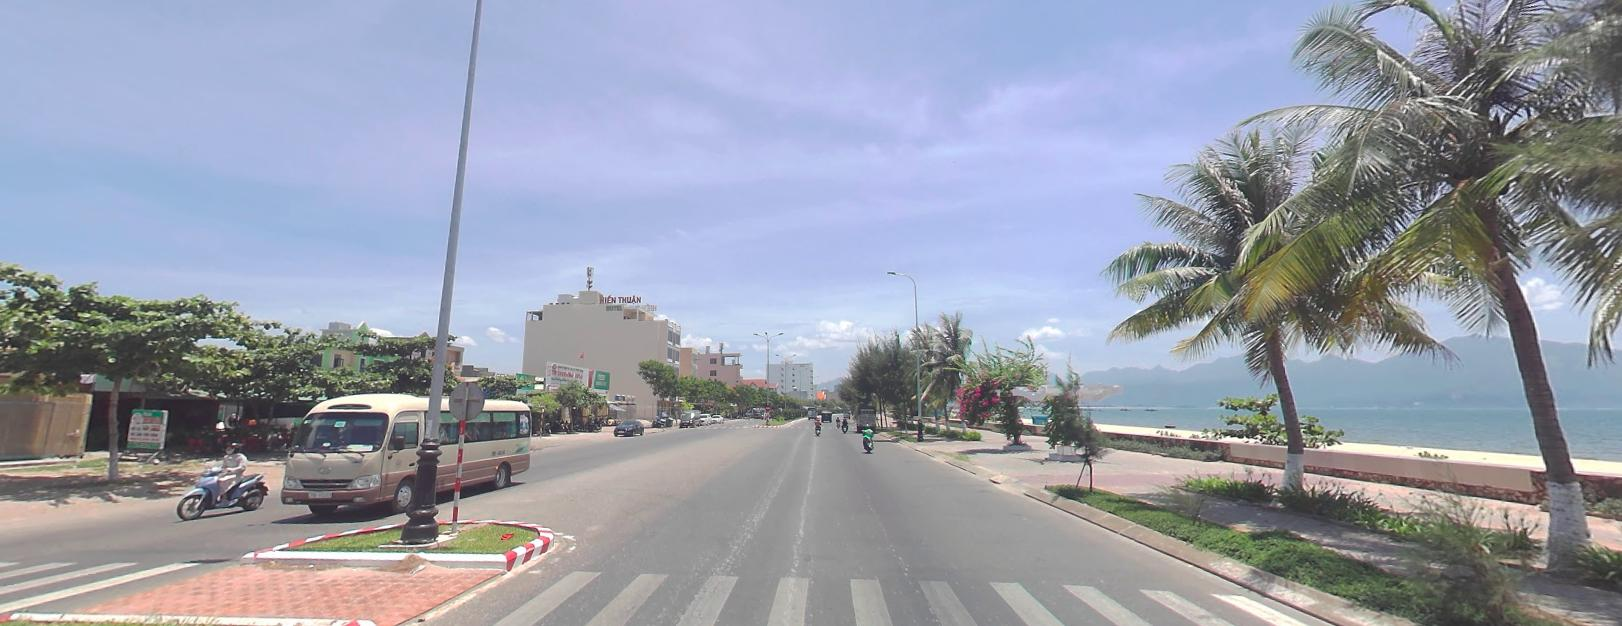Cam nguoc chieu: (765, 403, 770, 408)
